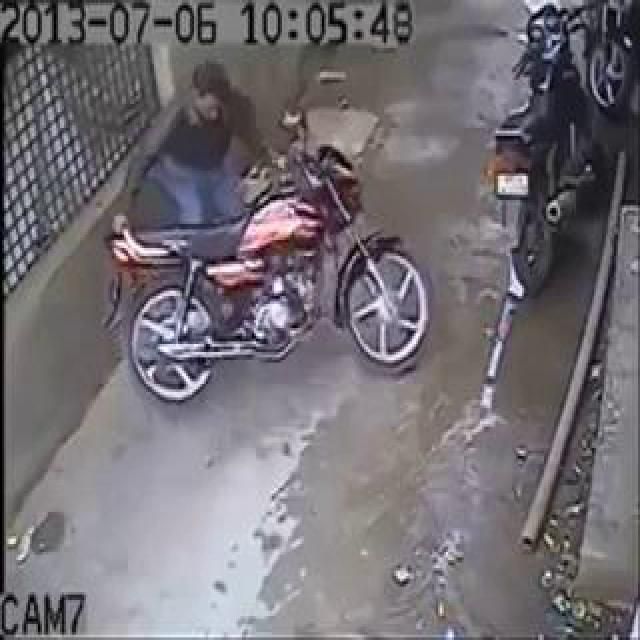stealing: (43, 32, 518, 432)
